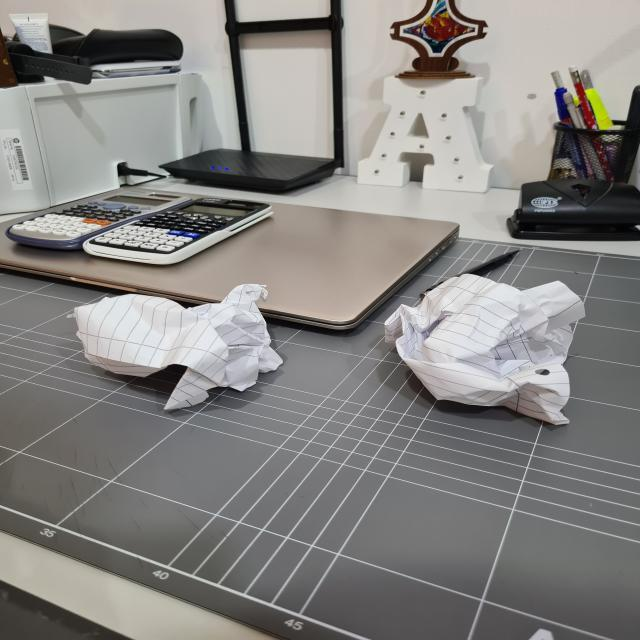Paper: (387, 276, 575, 430), (77, 289, 286, 403)
